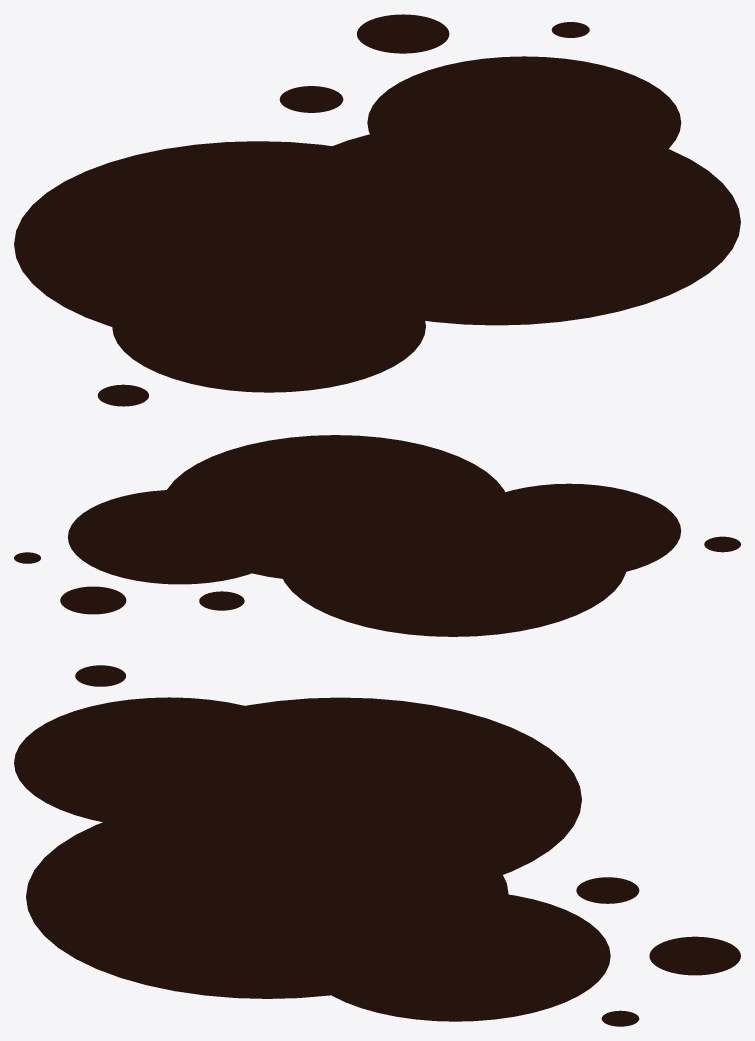
Rendered from oil_spill-2.fbx.
3 renders of one model, top to bottom at view 1: azimuth 30°, elevation 25°; view 2: azimuth 150°, elevation 25°; view 3: azimuth 270°, elevation 25°, orthographic. The views are drawn at different scales.
Visible parts, largest first — view 1: pDisc9; view 2: pDisc9; view 3: pDisc9.
Boxes of the visible parts, left/top/right/bottom form: pDisc9: left=14, top=14, right=740, bottom=406; pDisc9: left=14, top=435, right=740, bottom=636; pDisc9: left=14, top=665, right=740, bottom=1026.
Size of the model in its own units: 1.95 by 0 by 1.66.
